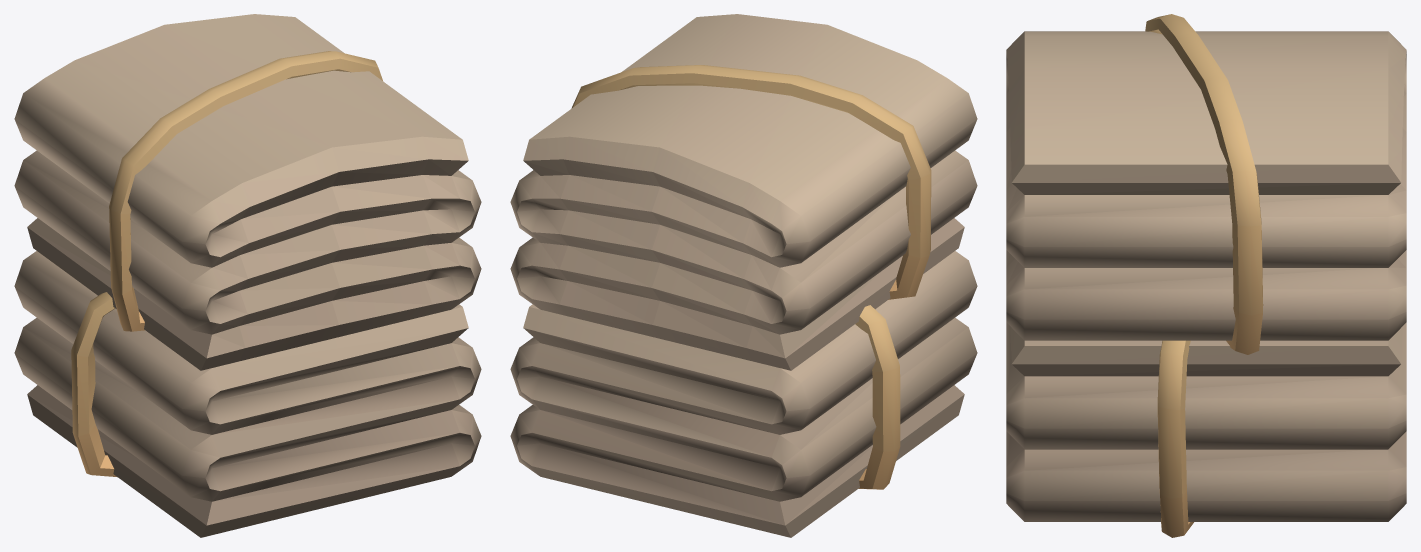
Rendered from kaykit_resource_textiles_b.glb.
3 views of the same model, side by side, from view 1: azimuth 30°, elevation 25°; view 2: azimuth 150°, elevation 25°; view 3: azimuth 270°, elevation 25° (orthographic). The views are drawn at different scales.
Visible parts, largest first — view 1: cloth; view 2: cloth; view 3: cloth.
Part boxes in pixels (x1,y1,x2,y2): cloth: [14, 14, 481, 537]; cloth: [510, 14, 977, 537]; cloth: [1006, 14, 1406, 537].
Size of the model in its own units: 0.8196 by 0.9318 by 0.8.
